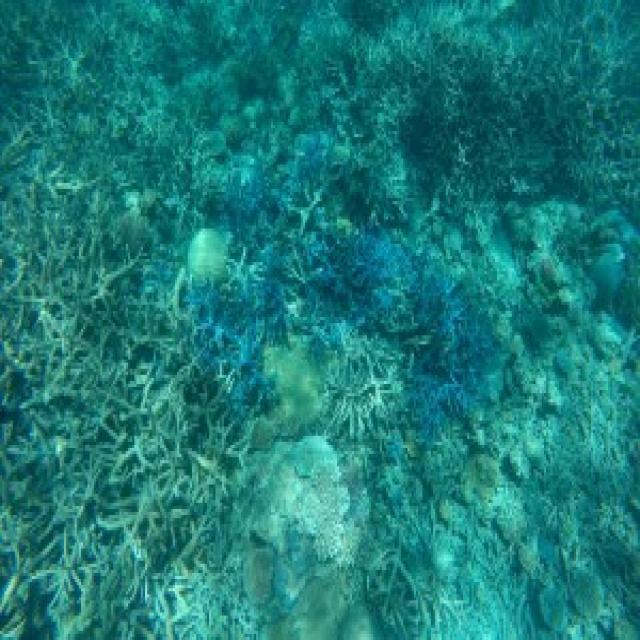Bleached: (1, 162, 241, 640), (359, 434, 640, 638), (500, 204, 640, 437), (253, 441, 350, 554), (1, 48, 88, 160), (324, 319, 400, 432), (108, 66, 182, 149), (192, 132, 250, 188), (429, 1, 505, 39), (293, 133, 350, 160), (302, 2, 348, 33)
Healthy: (411, 45, 640, 203), (402, 266, 495, 432), (295, 36, 407, 160), (244, 157, 297, 299), (311, 162, 399, 229), (324, 231, 392, 316), (265, 348, 326, 435), (512, 1, 640, 41), (158, 11, 232, 79), (517, 272, 566, 350), (3, 1, 40, 94), (338, 1, 426, 32), (41, 1, 102, 45), (232, 48, 284, 96), (83, 42, 122, 89), (615, 251, 640, 324), (557, 224, 609, 259)
